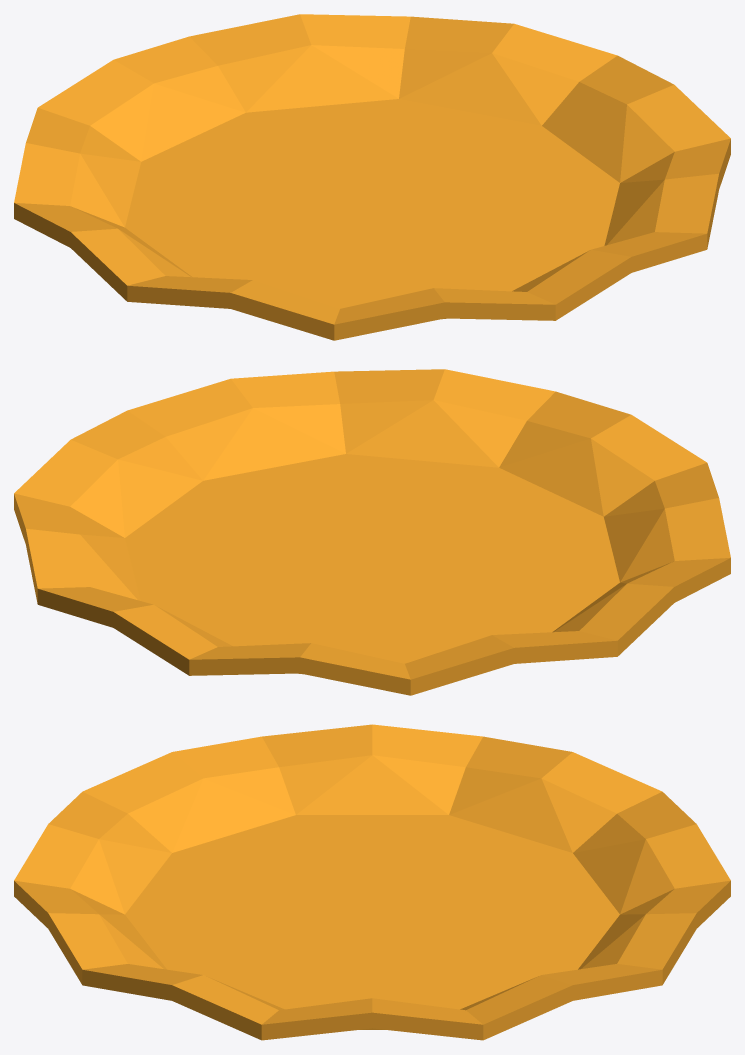
The model's file is SM_Plate_Paper.fbx.
The picture shows the model from 3 angles, top to bottom: view 1: azimuth 30°, elevation 25°; view 2: azimuth 150°, elevation 25°; view 3: azimuth 270°, elevation 25°; orthographic projection. The views are drawn at different scales.
Parts seen in each view (by area): view 1: plate-paper; view 2: plate-paper; view 3: plate-paper.
Part boxes in pixels (<box>): plate-paper: <box>14,14,730,340</box>; plate-paper: <box>14,369,730,695</box>; plate-paper: <box>14,724,730,1040</box>.
Size of the model in its own units: 0.2995 by 0.0299 by 0.315.
